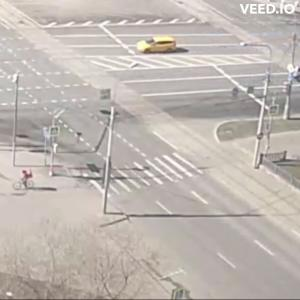car: (138, 38, 179, 57)
